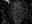person: (4, 0, 11, 4)
